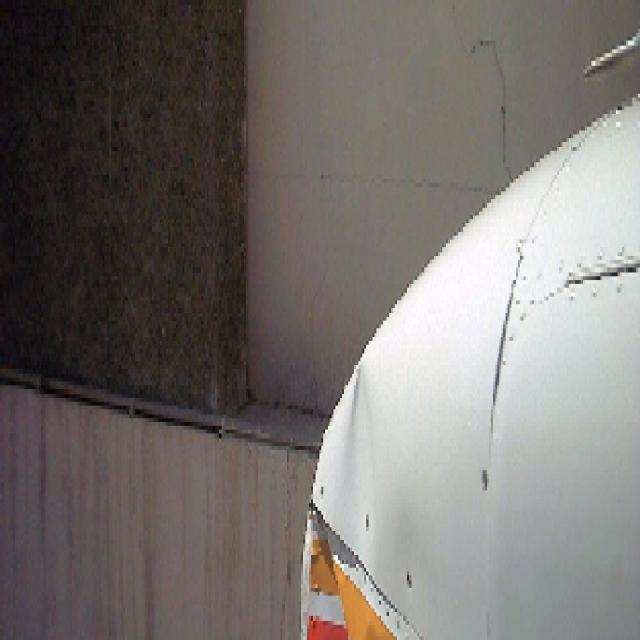dent: (298, 358, 380, 640)
